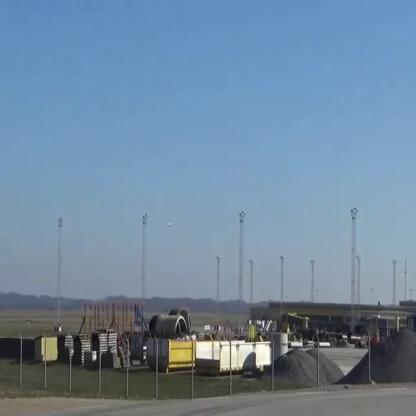plane: (168, 220, 173, 228)
